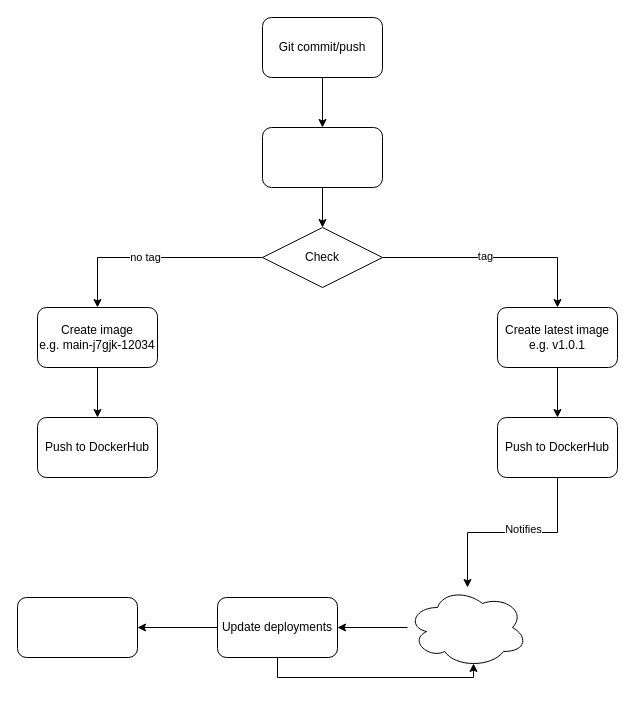
Image size: 635x703. Some labels were removed from this diagram. The shapes that lost their labels are listed below. From the top down, each one's centre as x and y in pixels, then its label:
pixel 322 157: Test Code
pixel 77 627: Update in Git Repo
pixel 467 627: Kubernetes
